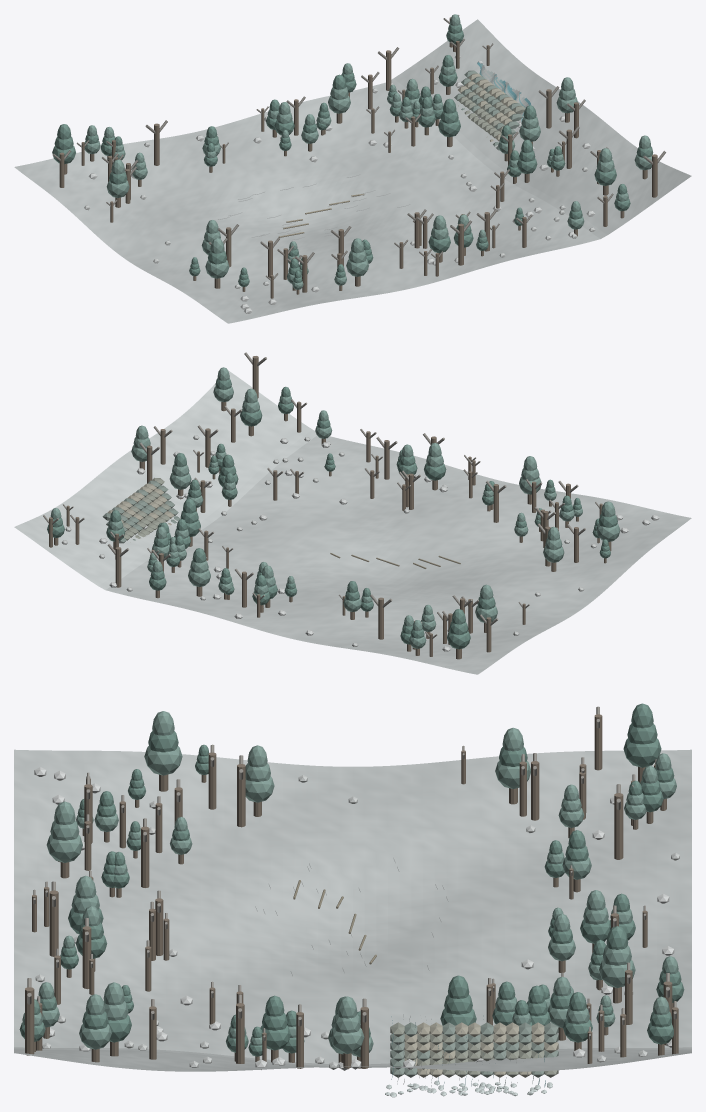
File: jiuzhaigou-winter.glb
The picture shows the model from 3 angles, top to bottom: view 1: azimuth 30°, elevation 25°; view 2: azimuth 150°, elevation 25°; view 3: azimuth 270°, elevation 25°; orthographic projection. The views are drawn at different scales.
Parts seen in each view (by area): view 1: terrain, world; view 2: terrain, world; view 3: terrain, world.
Part boxes in pixels (<box>): terrain: <box>14,19,691,323</box>; world: <box>52,14,665,313</box>; terrain: <box>14,370,691,674</box>; world: <box>43,352,659,659</box>; terrain: <box>14,749,691,1071</box>; world: <box>19,703,684,1097</box>.
Bounding box in the file's own units: 30 × 5.38 × 24.
